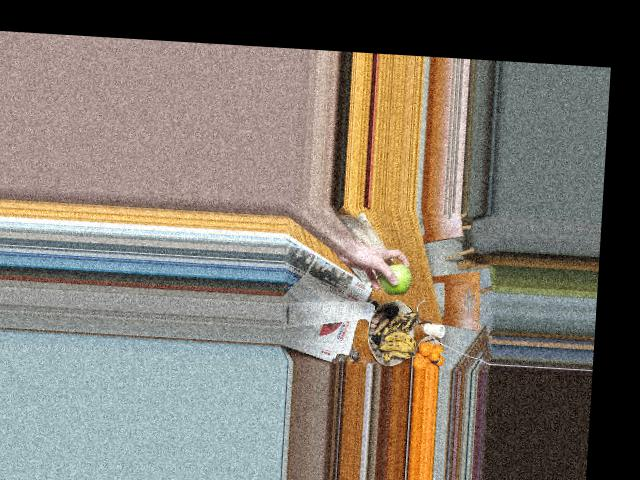apple: (376, 263, 411, 296)
